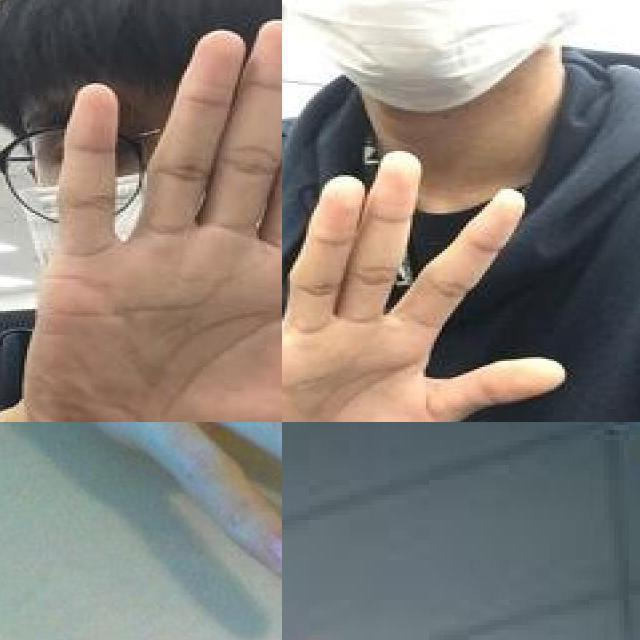hand: (24, 17, 282, 422), (282, 151, 571, 422), (0, 422, 282, 613)
